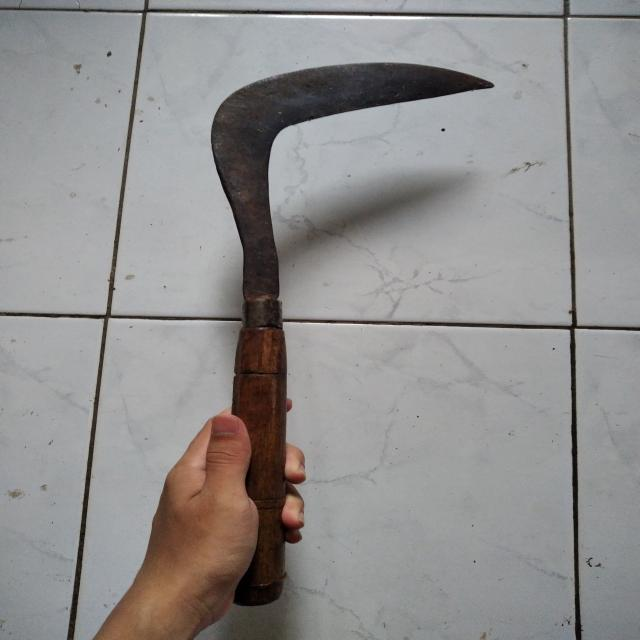Celurit: (208, 59, 500, 605)
